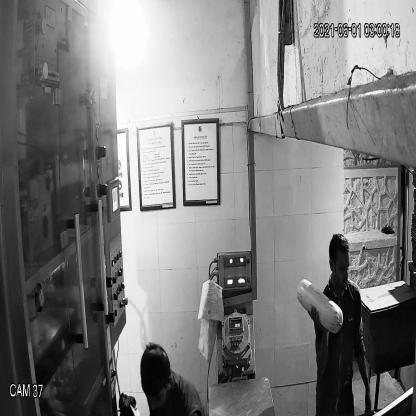no_goggles: (328, 256, 353, 280)
